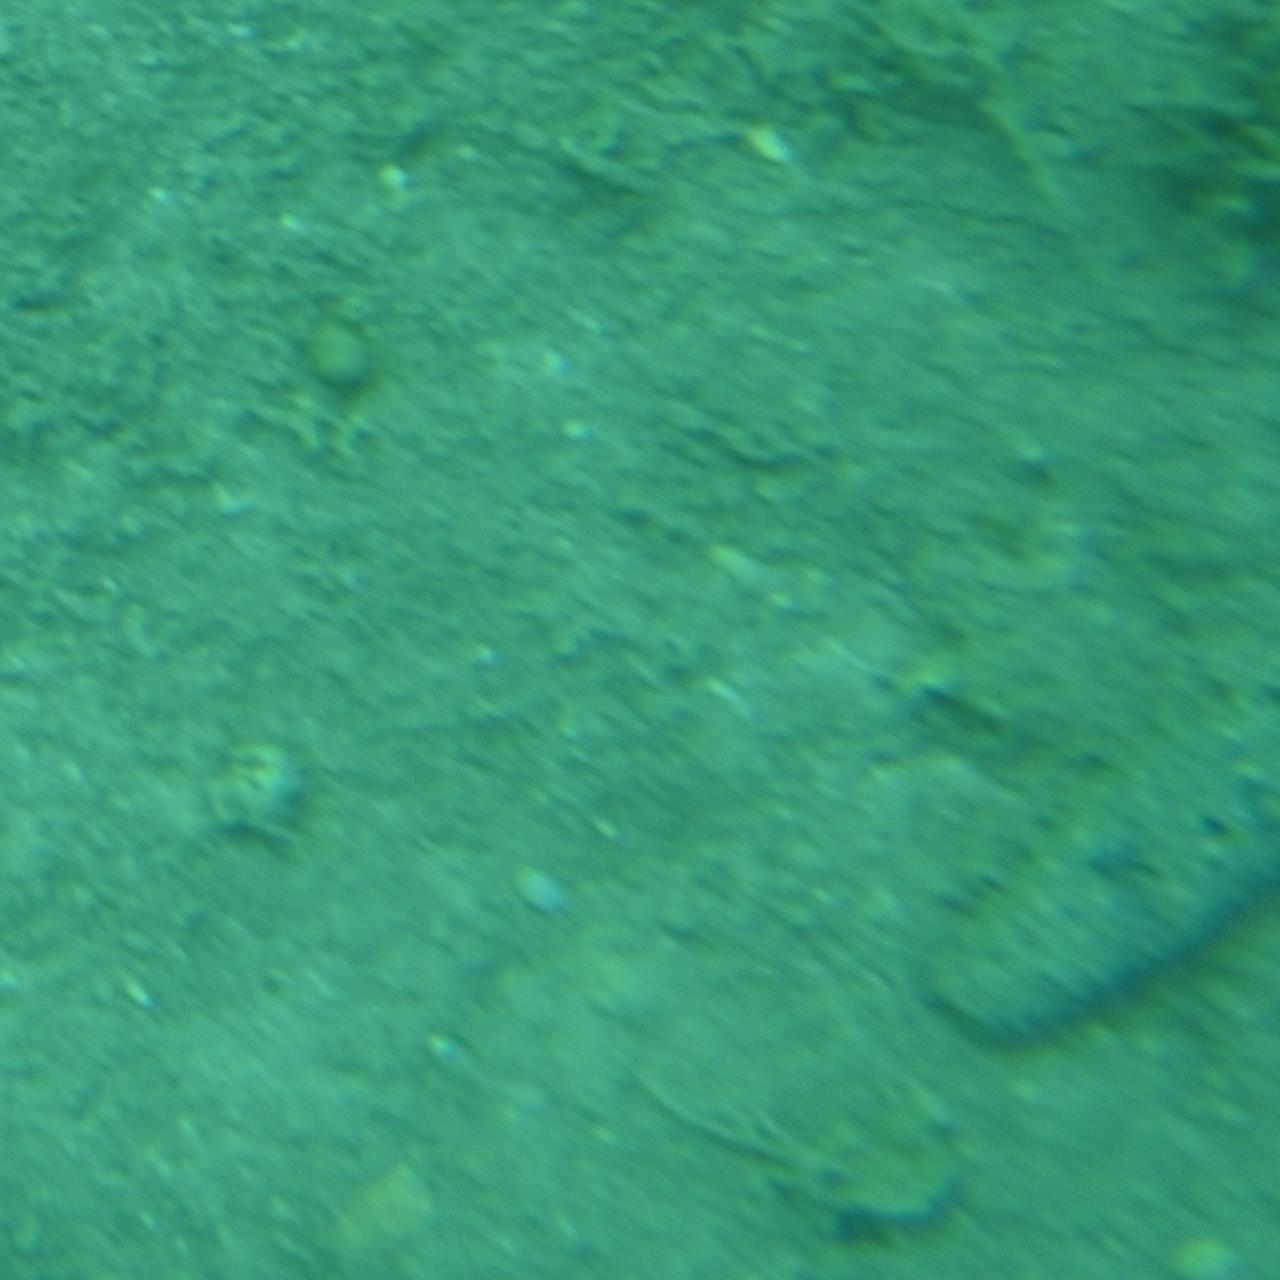Holothuria tubulosa: (920, 688, 1280, 1065)
